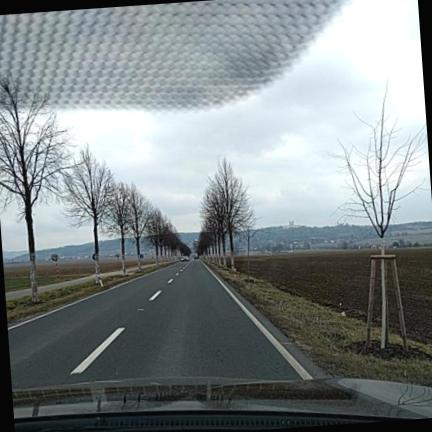Road: (8, 261, 301, 388)
